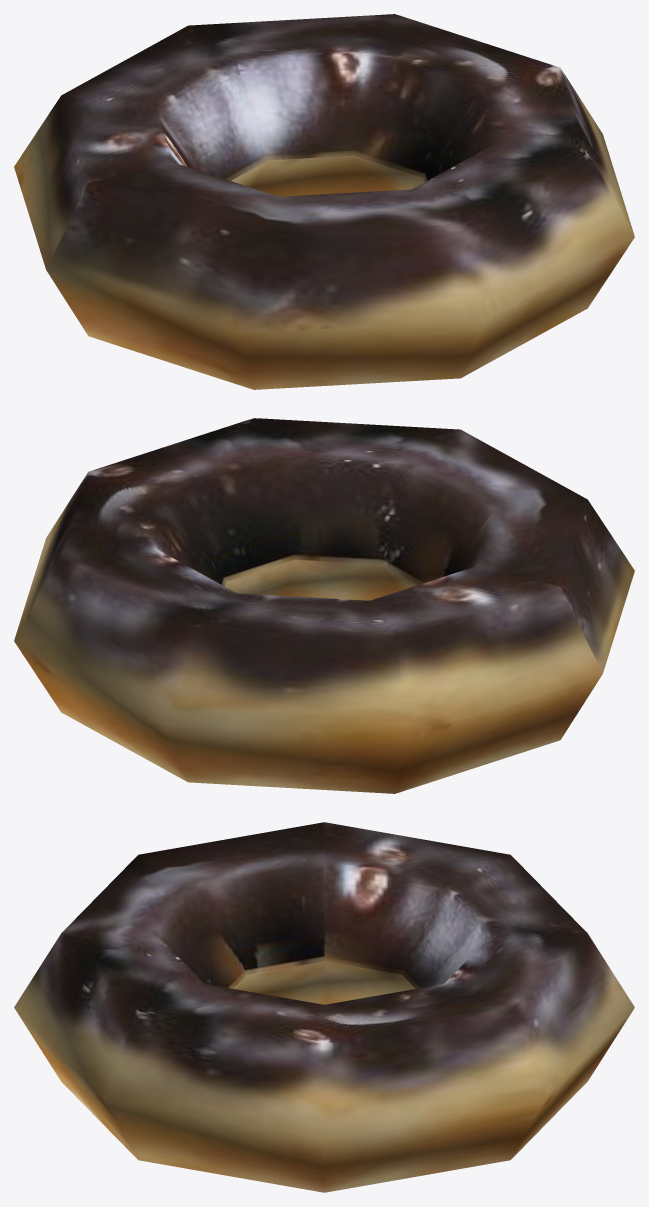
File: Donuts_01.glb
3 renders of one model, top to bottom at view 1: azimuth 30°, elevation 25°; view 2: azimuth 150°, elevation 25°; view 3: azimuth 270°, elevation 25°, orthographic. The views are drawn at different scales.
Parts seen in each view (by area): view 1: Donuts_01; view 2: Donuts_01; view 3: Donuts_01.
Boxes of the visible parts, box(x1,y1,x2,y2) form: Donuts_01: box(14, 14, 634, 389); Donuts_01: box(14, 418, 634, 793); Donuts_01: box(14, 822, 634, 1192).
Bounding box in the file's own units: 0.1882 × 0.0495 × 0.1882.
1 material, 1 textured.
